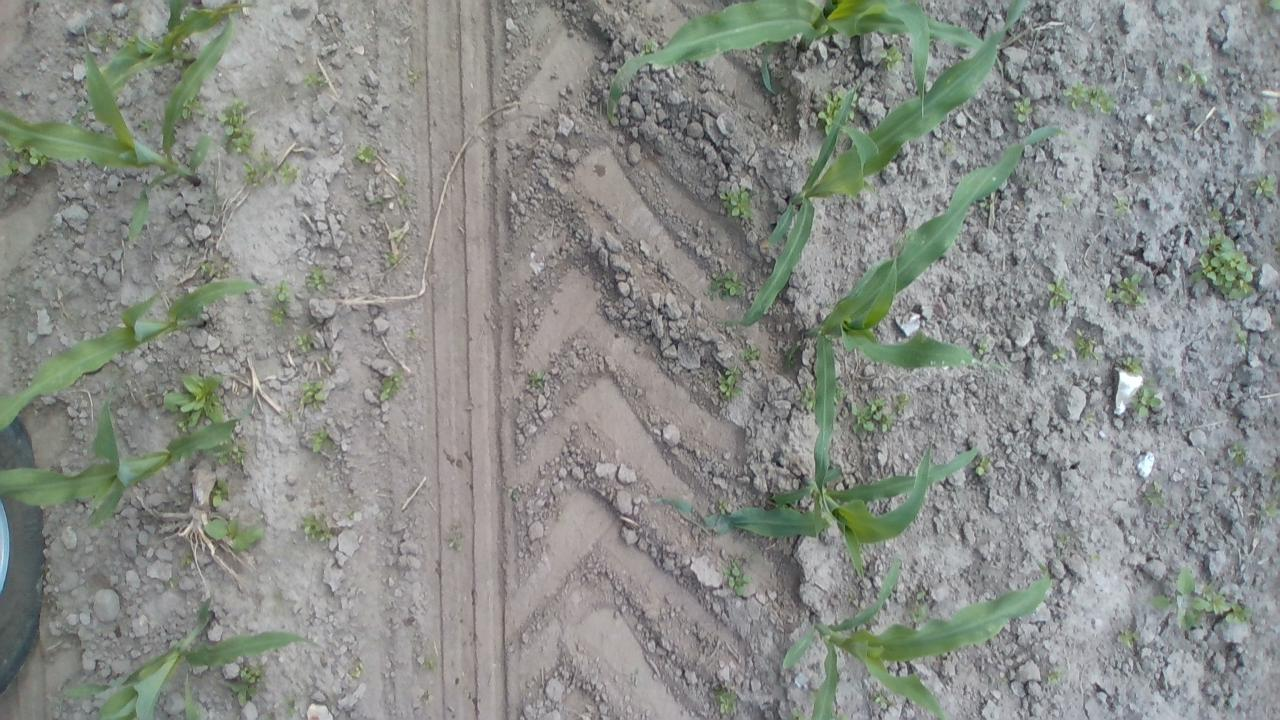Maize: (783, 126, 1089, 526), (730, 0, 1024, 334), (0, 14, 235, 247), (606, 0, 1006, 124), (654, 431, 979, 577), (782, 553, 1053, 720), (0, 280, 274, 436), (0, 369, 262, 528), (61, 594, 320, 720), (74, 0, 260, 121), (180, 668, 202, 720)
Weeds: (1188, 229, 1255, 301), (1146, 566, 1210, 632), (157, 371, 224, 430), (240, 148, 300, 190), (201, 516, 263, 554), (816, 86, 860, 136), (849, 396, 897, 440), (1202, 580, 1250, 624), (1061, 78, 1114, 117), (218, 97, 252, 153), (1102, 271, 1146, 308), (721, 553, 754, 599), (718, 184, 755, 223), (700, 270, 744, 302), (1128, 377, 1162, 418), (1248, 98, 1280, 141), (712, 364, 744, 406), (230, 664, 261, 706), (300, 511, 334, 544), (215, 438, 250, 470), (1168, 61, 1210, 86), (1046, 274, 1072, 314), (298, 376, 332, 406), (904, 586, 930, 624), (1074, 324, 1100, 361), (1248, 170, 1280, 199), (376, 371, 404, 402), (1224, 438, 1251, 470), (1010, 94, 1036, 127), (712, 684, 738, 716), (1139, 478, 1167, 506), (304, 266, 334, 292), (308, 428, 334, 458), (444, 520, 466, 554), (1255, 490, 1279, 520), (793, 386, 816, 416), (266, 304, 290, 332), (351, 142, 378, 166), (199, 261, 233, 279), (879, 45, 902, 71), (24, 146, 50, 168), (299, 70, 327, 90), (1116, 626, 1142, 647), (1115, 356, 1143, 375), (870, 689, 894, 711), (294, 330, 314, 356), (211, 478, 227, 510), (525, 369, 547, 392), (1113, 194, 1131, 220), (1054, 527, 1077, 547), (182, 98, 206, 117), (0, 157, 21, 178), (736, 342, 760, 360), (1048, 664, 1072, 682), (273, 279, 290, 304), (1059, 191, 1079, 212), (89, 29, 107, 50), (1048, 344, 1068, 362), (894, 391, 911, 412), (833, 386, 847, 411), (404, 68, 422, 86), (941, 138, 959, 156), (392, 226, 408, 246), (1233, 326, 1249, 346), (974, 455, 990, 475), (362, 195, 384, 209), (418, 654, 437, 670), (383, 248, 398, 268), (348, 662, 364, 680), (398, 191, 413, 210), (1207, 202, 1222, 221), (138, 118, 155, 134), (507, 486, 522, 502), (716, 497, 730, 514), (164, 576, 183, 588), (1261, 0, 1280, 12), (178, 550, 192, 566), (643, 38, 659, 52), (286, 698, 297, 718), (5, 141, 22, 153), (976, 342, 990, 356), (125, 9, 140, 22), (395, 171, 408, 186), (792, 708, 808, 720), (1268, 466, 1280, 482), (177, 420, 190, 434), (1084, 408, 1097, 422), (979, 199, 993, 210), (1167, 514, 1178, 528), (344, 508, 354, 522), (107, 32, 120, 42), (262, 711, 276, 720), (406, 328, 416, 340), (420, 690, 429, 703), (904, 226, 914, 237), (1088, 553, 1101, 561), (512, 369, 520, 380)
